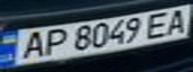0: (90, 20, 112, 50)
4: (106, 17, 130, 46)
8: (69, 22, 93, 52)
9: (121, 15, 148, 44)
A: (12, 29, 51, 61), (160, 7, 193, 36)
E: (139, 10, 175, 39)
P: (36, 27, 69, 57)
